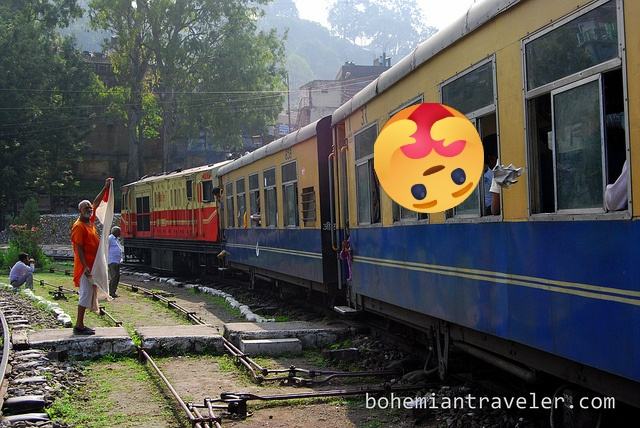care: (374, 103, 484, 213)
